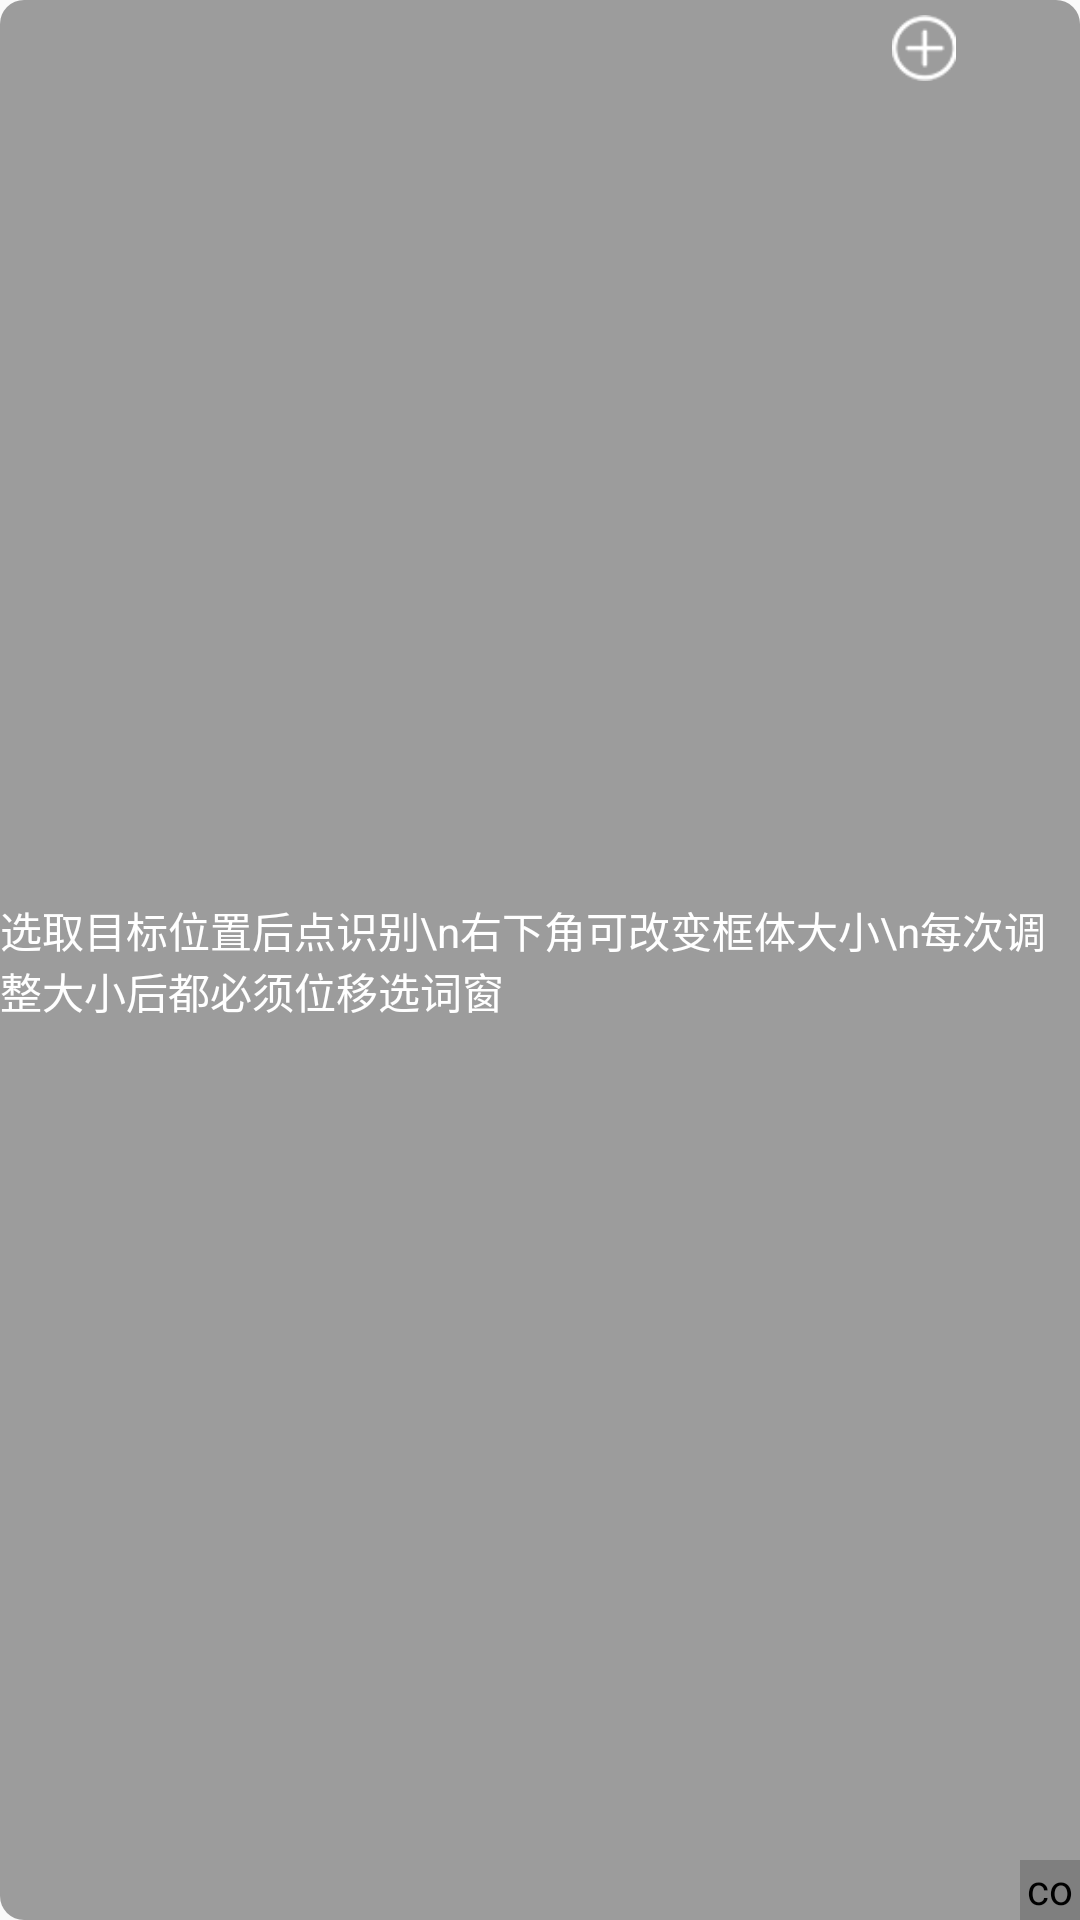

Icons on this 1080*1920 Android screen, each with its box as (x1, y1, x2, y2):
add windows: (892, 15, 956, 81)
